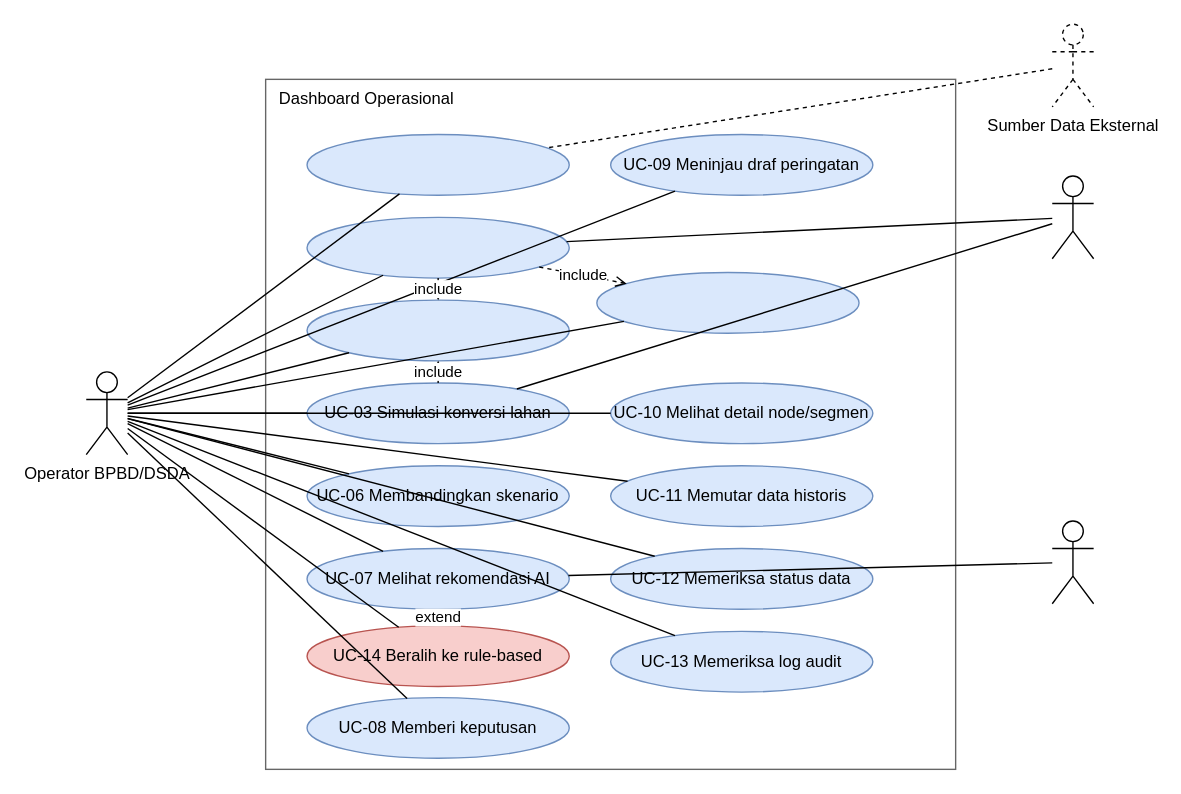
This 1181x794 diagram has some shape labels left out. The shapes that lost their labels are listed below. From the top down, each one's box as (x1, y1, x2, y2) in pixels, then its label:
(306, 133, 569, 195): UC-01 Memantau jaringan sungai
(1051, 175, 1094, 259): Sistem Simulasi
(306, 216, 569, 278): UC-02 Simulasi intensitas hujan
(595, 271, 859, 333): UC-05 Melihat proyeksi 3-6 jam
(306, 299, 569, 361): UC-04 Melihat beban debit
(1051, 520, 1094, 604): Layanan LLM
